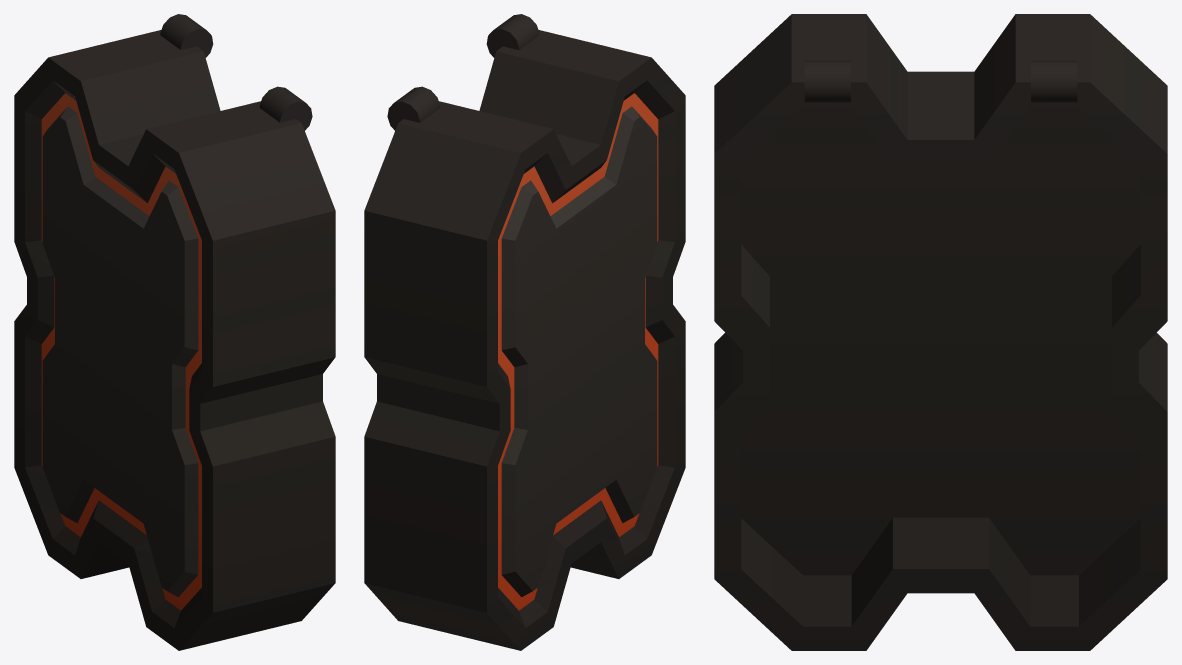
Rendered from GL4_FrontCap.fbx.
3 renders of one model, left to right at view 1: azimuth 30°, elevation 25°; view 2: azimuth 150°, elevation 25°; view 3: azimuth 270°, elevation 25°, orthographic. The views are drawn at different scales.
Parts seen in each view (by area): view 1: GL4_FrontCap; view 2: GL4_FrontCap; view 3: GL4_FrontCap.
Part boxes in pixels (x1=…): GL4_FrontCap: x1=14, y1=14, x2=335, y2=650; GL4_FrontCap: x1=364, y1=14, x2=685, y2=650; GL4_FrontCap: x1=714, y1=14, x2=1167, y2=650.
Bounding box in the file's own units: 9.89 × 34.98 × 24.44.
